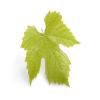grape leaf: (21, 8, 80, 93)
